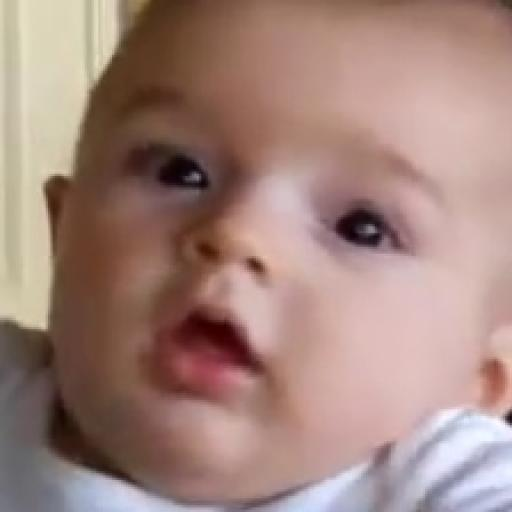Autism: (64, 24, 512, 486)
